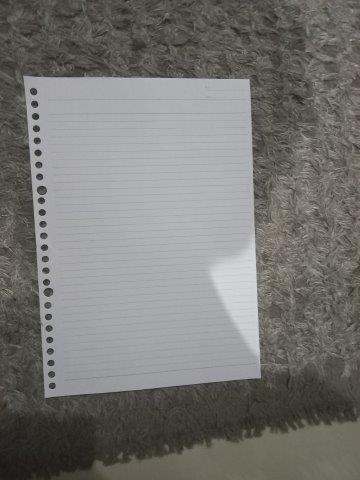kertas: (23, 74, 262, 399)
